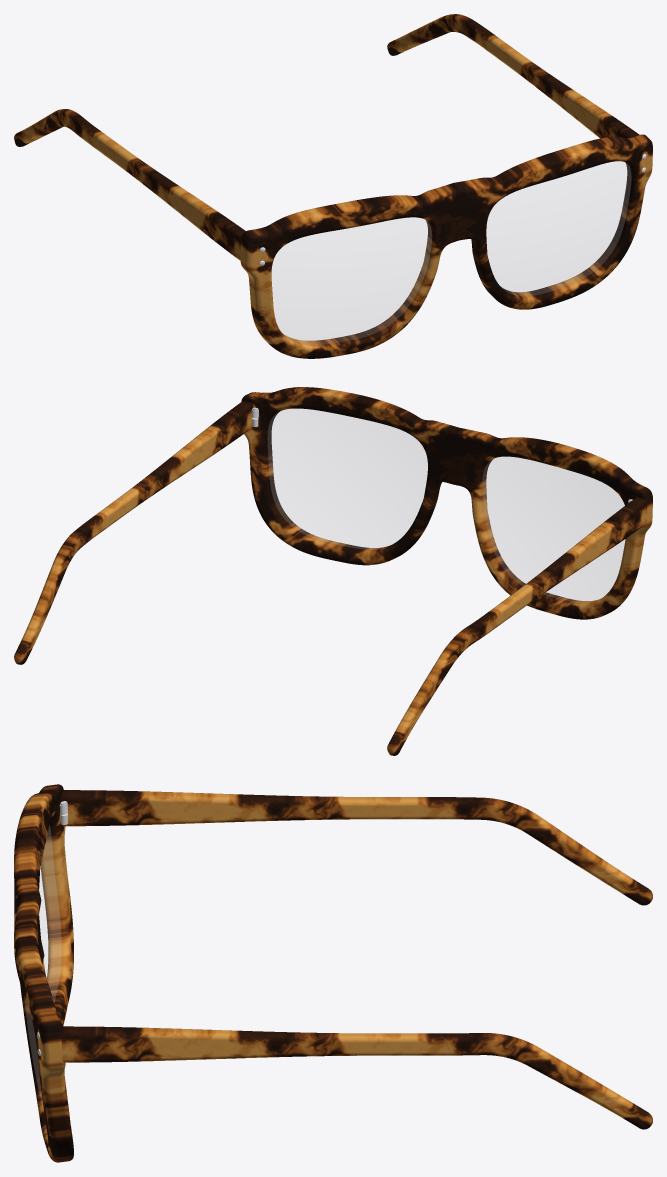
The model's file is aria.glb.
3 views of the same model, one above another, from view 1: azimuth 30°, elevation 25°; view 2: azimuth 150°, elevation 25°; view 3: azimuth 270°, elevation 25° (orthographic). The views are drawn at different scales.
Visible parts, largest first — view 1: frame, lens_R, lens_L, temple_R_body, temple_L_body; view 2: frame, lens_L, lens_R, temple_R_body, temple_L_body; view 3: frame, temple_L_body, temple_R_body, lens_R.
Part boxes in pixels (bbox=[...]): frame: bbox=[240, 134, 652, 358]; lens_R: bbox=[272, 217, 431, 344]; lens_L: bbox=[486, 161, 631, 295]; temple_R_body: bbox=[14, 109, 245, 260]; temple_L_body: bbox=[387, 14, 639, 138]; frame: bbox=[241, 387, 652, 619]; lens_L: bbox=[267, 409, 427, 549]; lens_R: bbox=[482, 457, 624, 602]; temple_R_body: bbox=[387, 497, 647, 755]; temple_L_body: bbox=[14, 401, 253, 664]; frame: bbox=[14, 784, 73, 1162]; temple_L_body: bbox=[61, 1026, 652, 1129]; temple_R_body: bbox=[61, 790, 652, 905]; lens_R: bbox=[39, 825, 61, 1002].
Size of the model in its own units: 0.1374 by 0.051 by 0.1522.
Materials: 3 (1 with a texture image).
